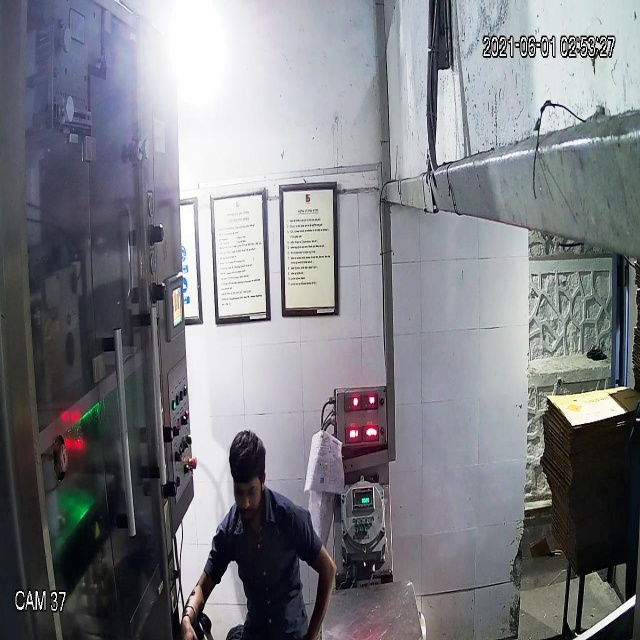Sin_gafas: (230, 475, 265, 508)
